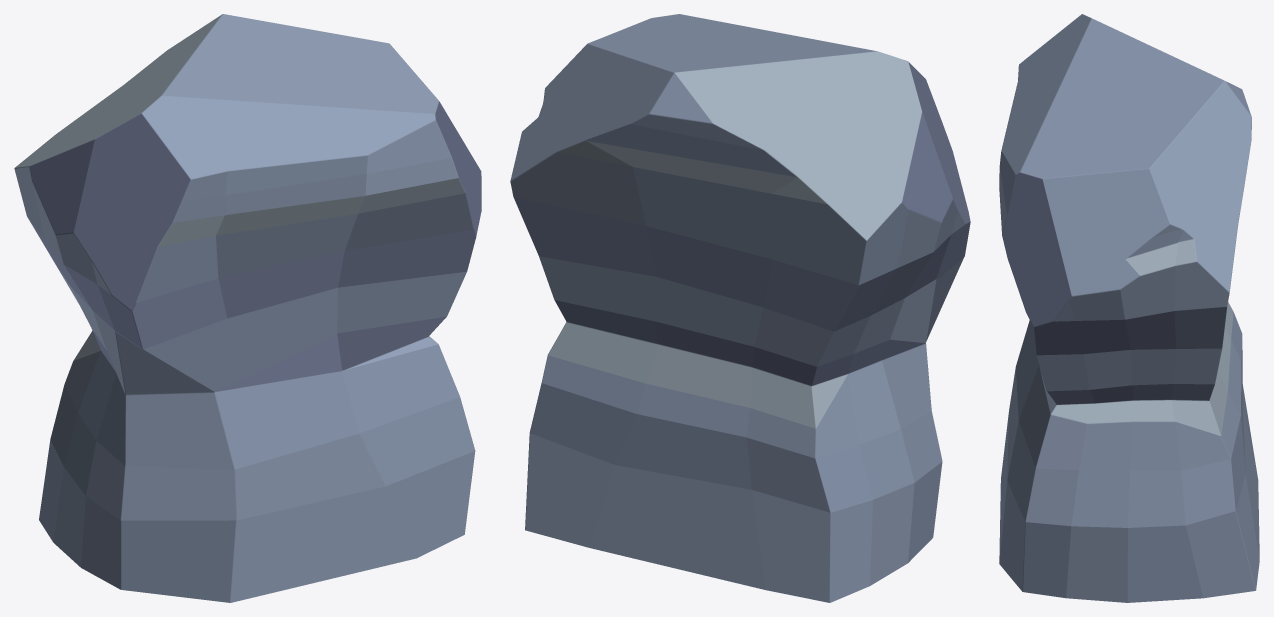
The model's file is Cliff_B.fbx.
3 views of the same model, side by side, from view 1: azimuth 30°, elevation 25°; view 2: azimuth 150°, elevation 25°; view 3: azimuth 270°, elevation 25° (orthographic). The views are drawn at different scales.
Parts seen in each view (by area): view 1: Cliff_B; view 2: Cliff_B; view 3: Cliff_B.
Part boxes in pixels (box(x1,y1,x2,y2)): Cliff_B: box(14, 14, 481, 602); Cliff_B: box(510, 14, 970, 602); Cliff_B: box(999, 14, 1259, 602).
Bounding box in the file's own units: 7.87 × 9.03 × 4.73.
